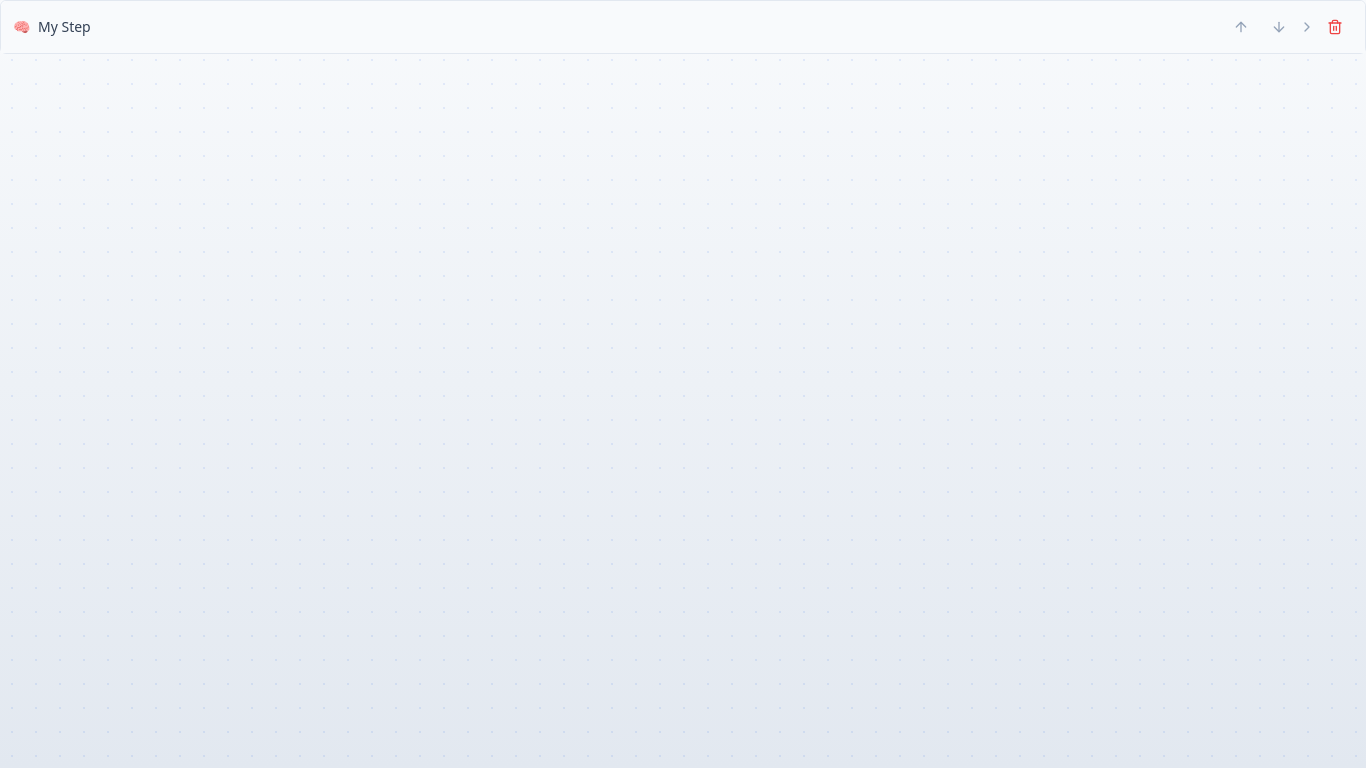
Test case: StepCard › expand / collapse › expands to show step type select when header is clicked
This screenshot has width=1366, height=768.
Click the button at (64,26), box [1,1,1365,53]
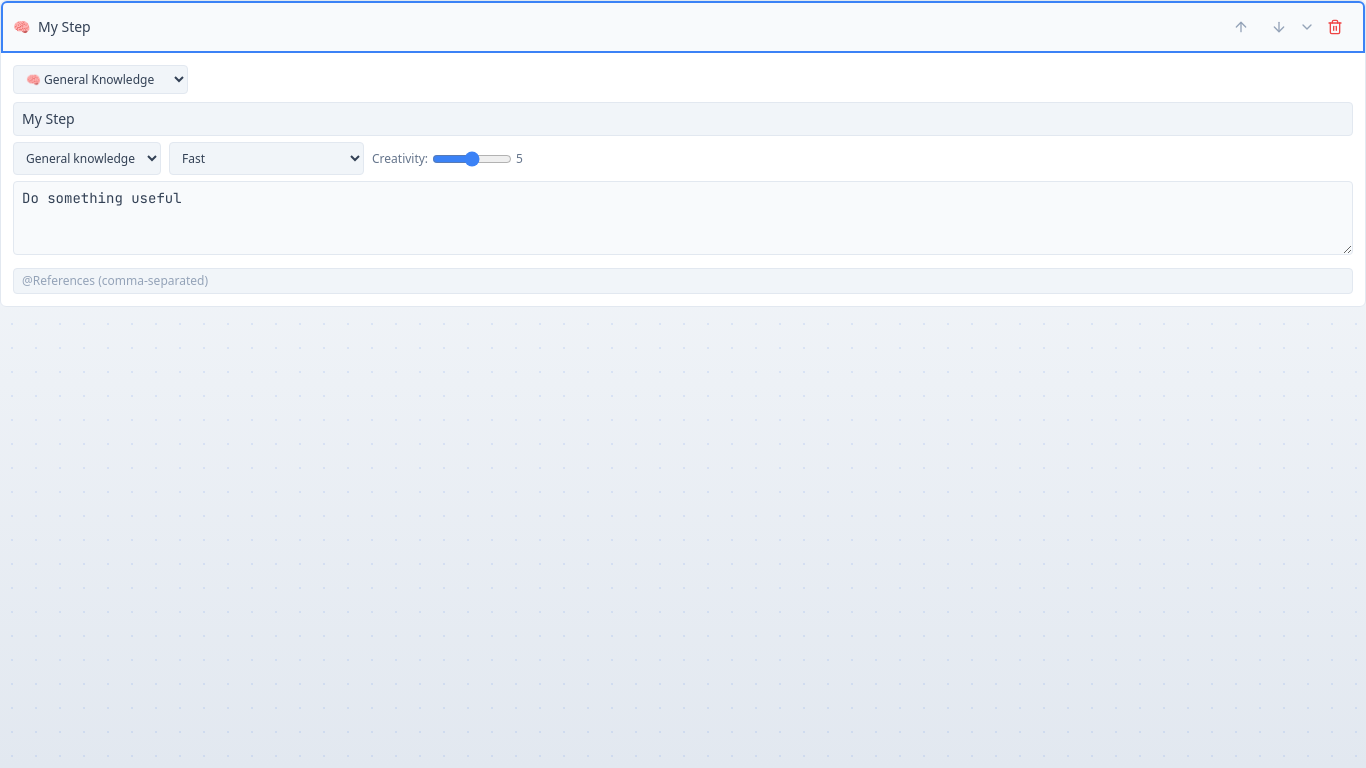
expect the 1st dropdown named "step type" is shown: met, box [13,65,188,94]
